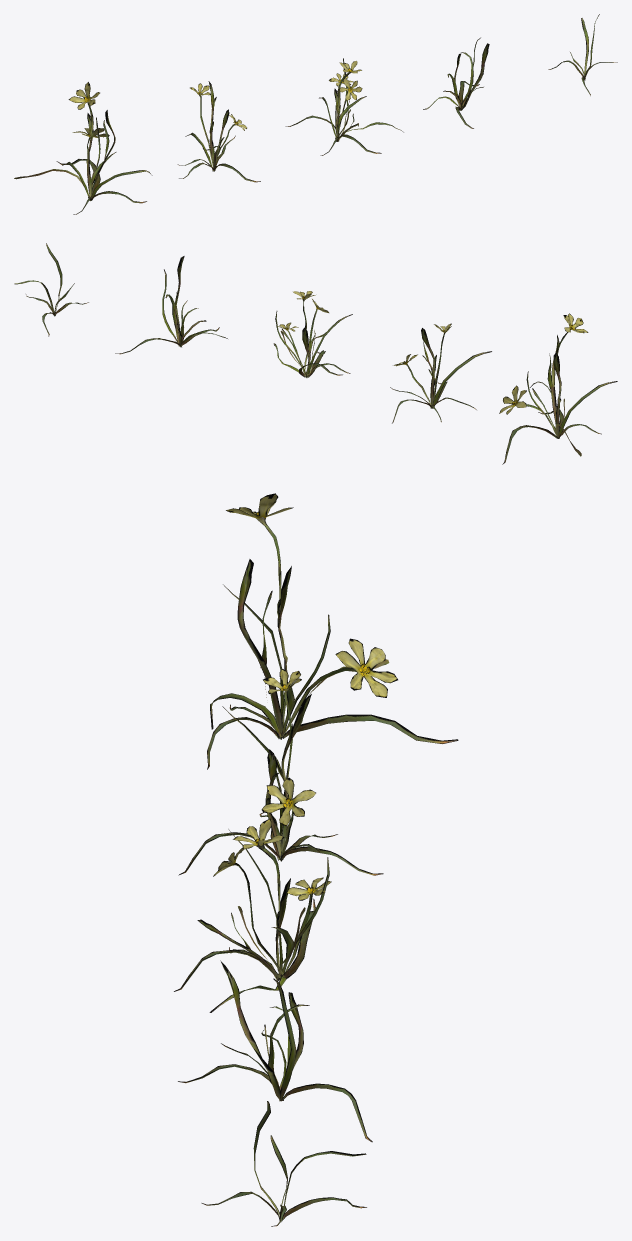
The model's file is flower_empodium.glb.
The picture shows the model from 3 angles, top to bottom: view 1: azimuth 30°, elevation 25°; view 2: azimuth 150°, elevation 25°; view 3: azimuth 270°, elevation 25°; orthographic projection. The views are drawn at different scales.
Parts seen in each view (by area): view 1: flower_empodium_a, flower_empodium_c, flower_empodium_b, flower_empodium_d, flower_empodium_e; view 2: flower_empodium_a, flower_empodium_c, flower_empodium_b, flower_empodium_d, flower_empodium_e; view 3: flower_empodium_a, flower_empodium_c, flower_empodium_b, flower_empodium_d, flower_empodium_e.
Boxes of the visible parts, bbox=[...] form: flower_empodium_a: bbox=[14, 82, 152, 214]; flower_empodium_c: bbox=[285, 58, 403, 155]; flower_empodium_b: bbox=[177, 81, 260, 182]; flower_empodium_d: bbox=[423, 37, 489, 128]; flower_empodium_e: bbox=[548, 14, 617, 95]; flower_empodium_a: bbox=[499, 313, 617, 464]; flower_empodium_c: bbox=[273, 291, 352, 377]; flower_empodium_b: bbox=[390, 323, 491, 423]; flower_empodium_d: bbox=[115, 256, 227, 354]; flower_empodium_e: bbox=[14, 243, 88, 336]; flower_empodium_a: bbox=[207, 493, 458, 769]; flower_empodium_c: bbox=[174, 818, 331, 1012]; flower_empodium_b: bbox=[178, 668, 383, 875]; flower_empodium_d: bbox=[178, 960, 372, 1142]; flower_empodium_e: bbox=[201, 1101, 366, 1226].
Size of the model in its own units: 1.32 by 0.2684 by 0.2841.
Materials: 1 (1 with a texture image).
